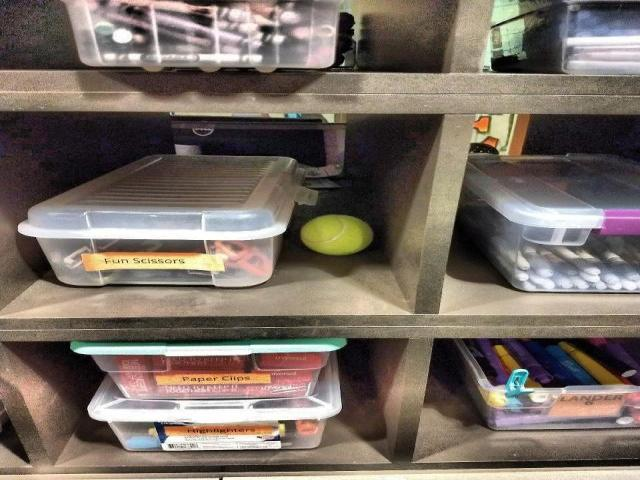tennis-ball: (306, 214, 370, 258)
